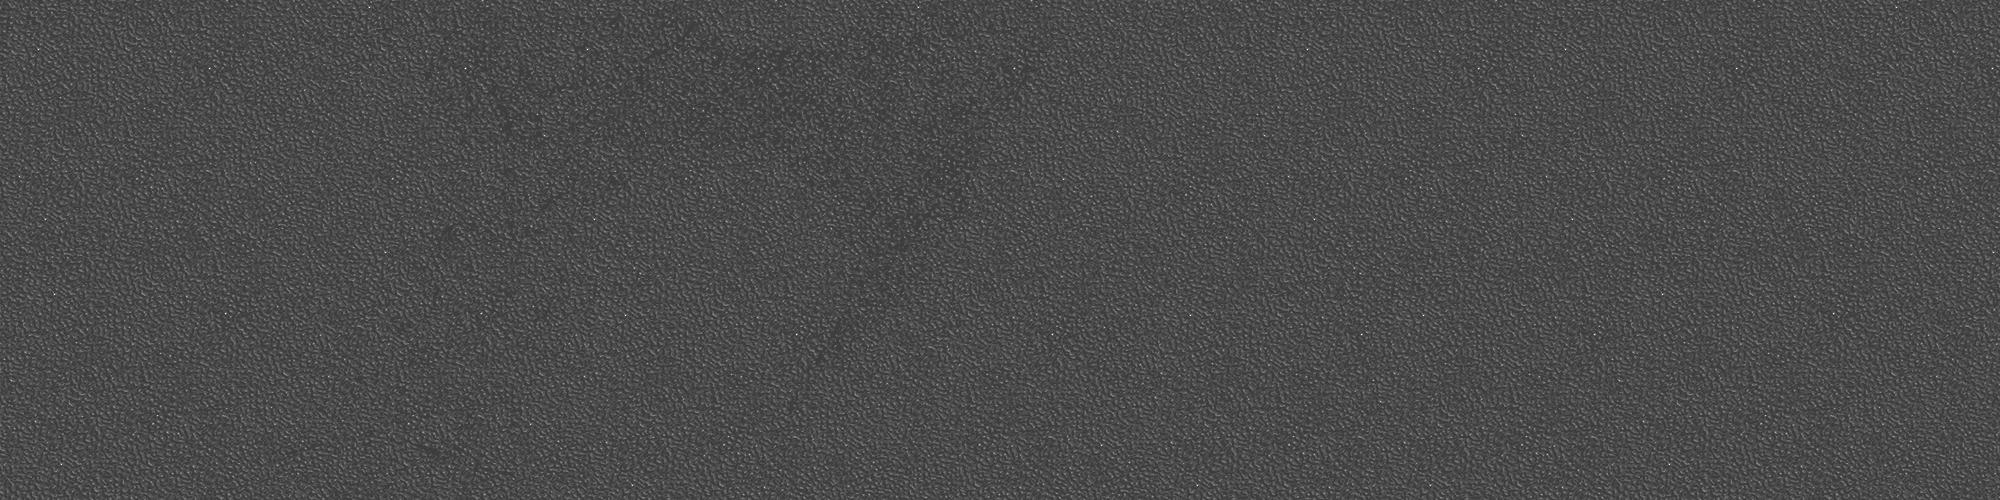Decomposed: (768, 31, 1062, 432)
